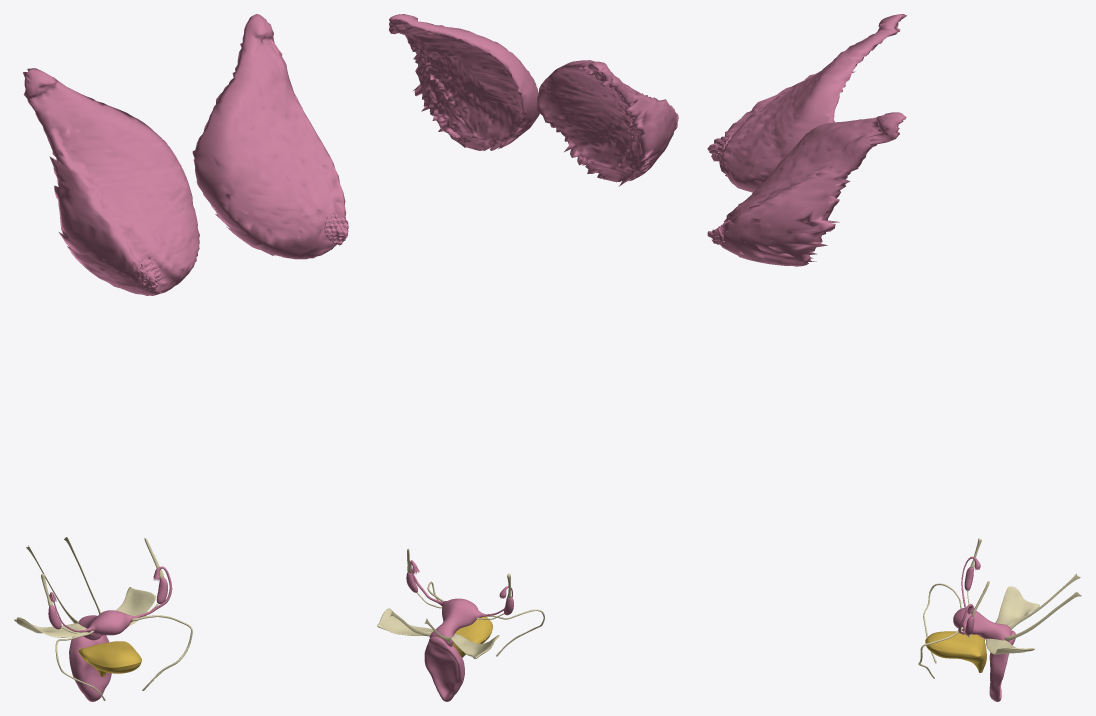
File: female.glb
3 renders of one model, left to right at view 1: azimuth 30°, elevation 25°; view 2: azimuth 150°, elevation 25°; view 3: azimuth 270°, elevation 25°, orthographic. The views are drawn at different scales.
Parts seen in each view (by area): view 1: Fatty tissue of breast.r, Fatty tissue of breast.l, Dome of urinary bladder, Vagina, Fundus of uterus, Cardinal ligament.l, Cardinal ligament.r; view 2: Fatty tissue of breast.l, Fatty tissue of breast.r, Vagina, Body of uterus, Cardinal ligament.l, Dome of urinary bladder, Cardinal ligament.r; view 3: Fatty tissue of breast.l, Fatty tissue of breast.r, Dome of urinary bladder, Cardinal ligament.r, Vagina.
Part boxes in pixels (x1,y1,x2,y2): Fatty tissue of breast.r: (23, 68, 199, 295); Fatty tissue of breast.l: (192, 14, 346, 259); Dome of urinary bladder: (78, 641, 141, 667); Vagina: (69, 639, 111, 701); Fundus of uterus: (91, 610, 131, 635); Cardinal ligament.l: (116, 587, 156, 626); Cardinal ligament.r: (14, 617, 88, 637); Fatty tissue of breast.l: (389, 14, 539, 150); Fatty tissue of breast.r: (537, 60, 676, 186); Vagina: (424, 650, 464, 701); Body of uterus: (442, 602, 477, 629); Cardinal ligament.l: (377, 608, 433, 635); Dome of urinary bladder: (455, 616, 492, 643); Cardinal ligament.r: (451, 633, 499, 658); Fatty tissue of breast.l: (720, 112, 906, 266); Fatty tissue of breast.r: (719, 14, 906, 192); Dome of urinary bladder: (925, 631, 983, 656); Cardinal ligament.r: (995, 586, 1039, 625); Vagina: (989, 652, 1007, 701).
Bounding box in the file's own units: 0.2224 × 0.5811 × 0.3102.
